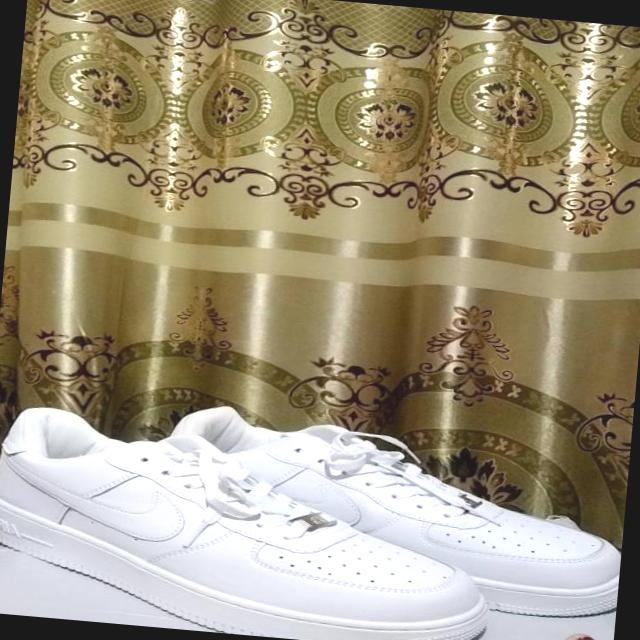nike_fake_airforce: (0, 399, 511, 640), (115, 398, 630, 620)
